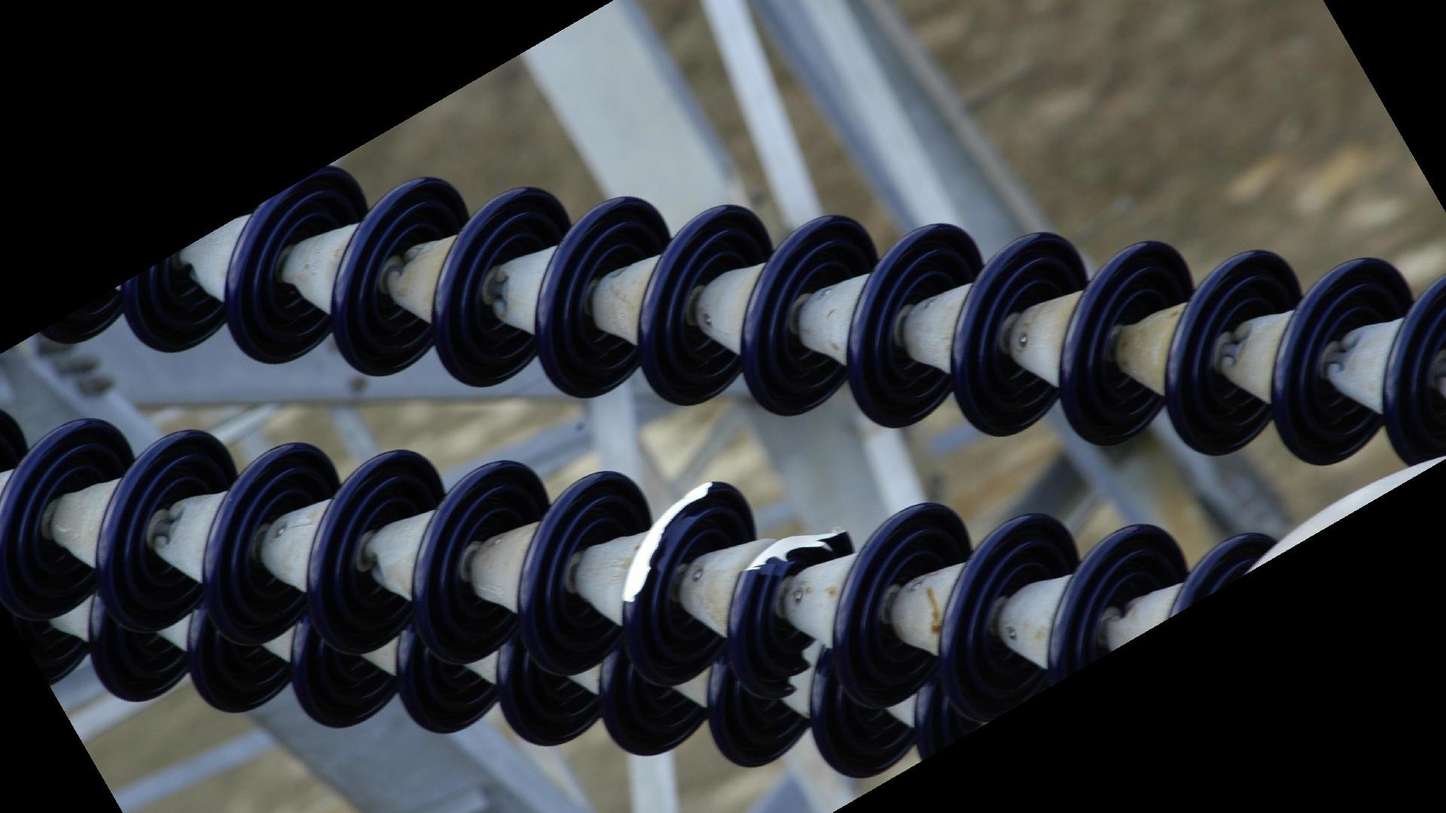insulator: (1, 414, 1274, 784), (59, 160, 1446, 474)
insulator_breakage: (612, 475, 724, 617), (734, 524, 855, 580)
